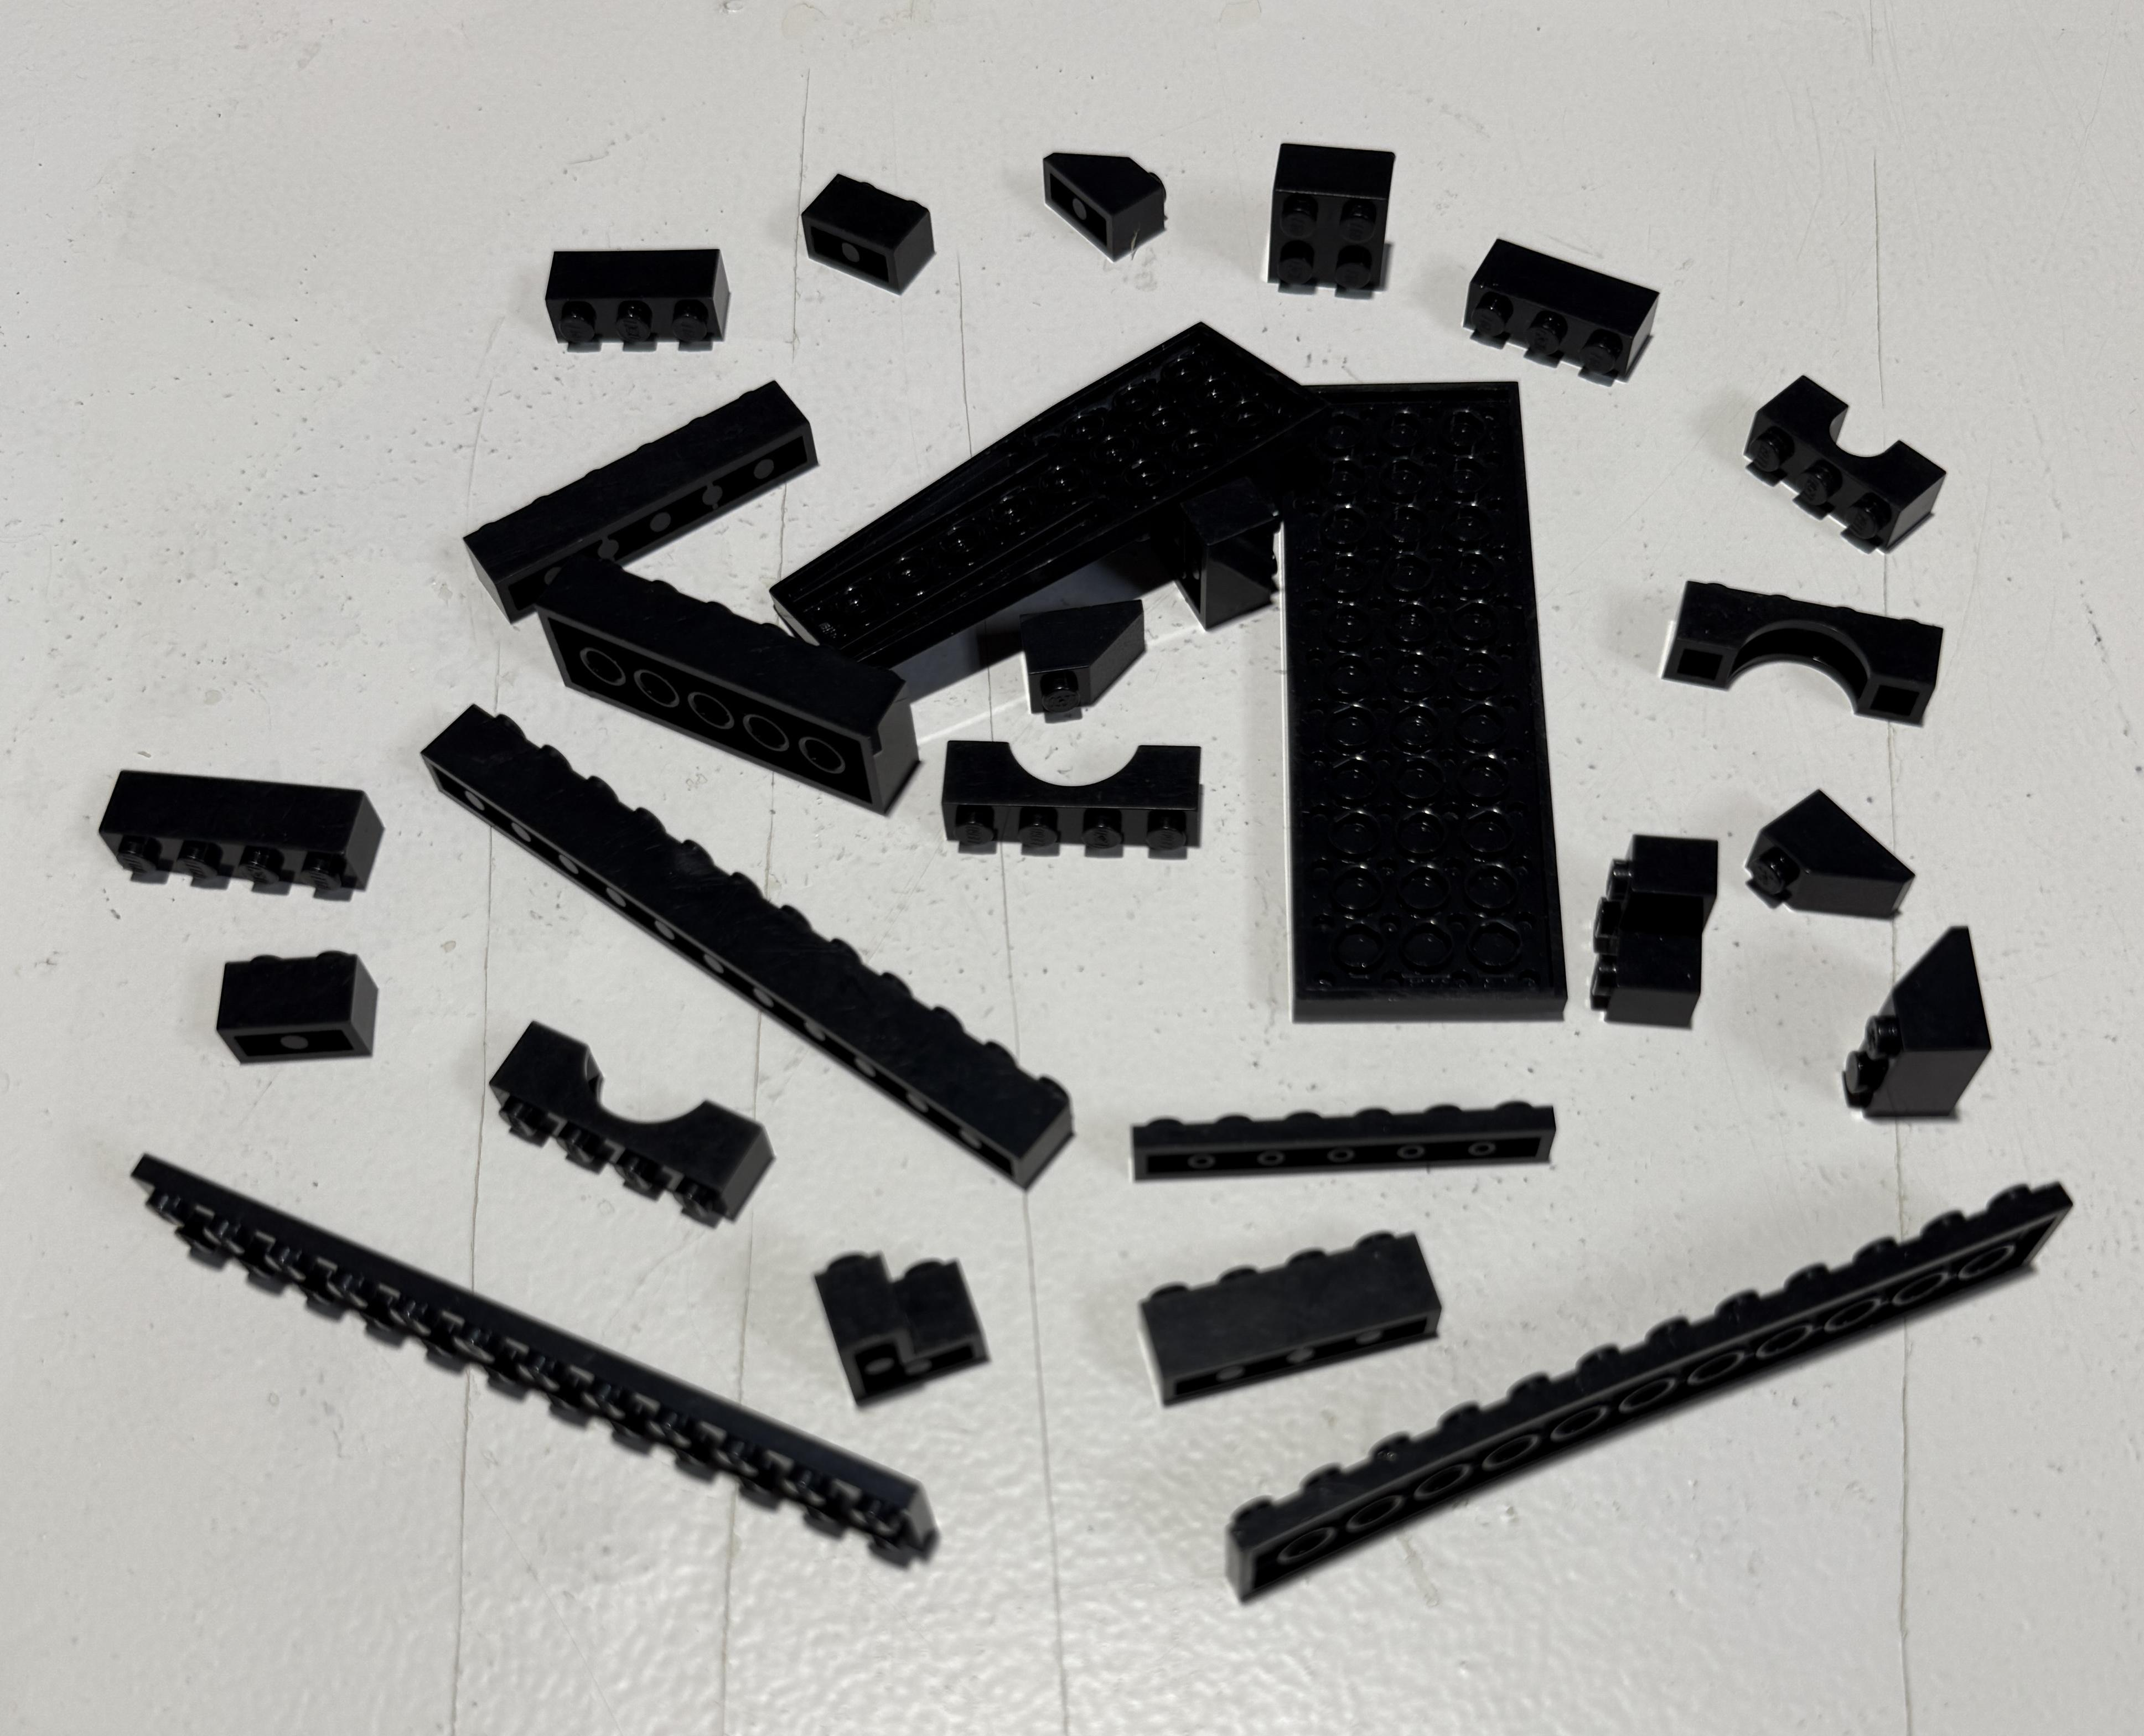brick_1x2: (181, 928, 411, 1086), (774, 152, 953, 310)
brick_1x3: (1444, 211, 1696, 409), (484, 214, 751, 361)
